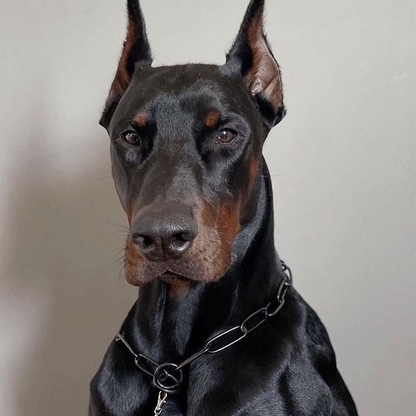doberman: (84, 4, 363, 416)
